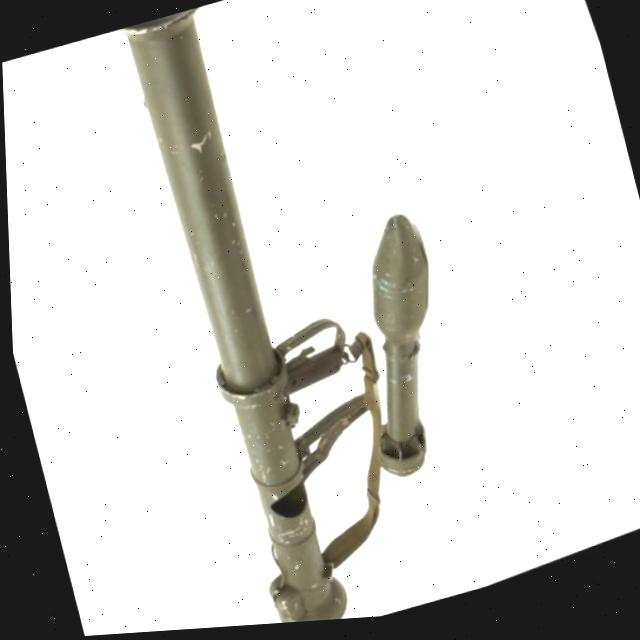rocket: (71, 0, 515, 636)
